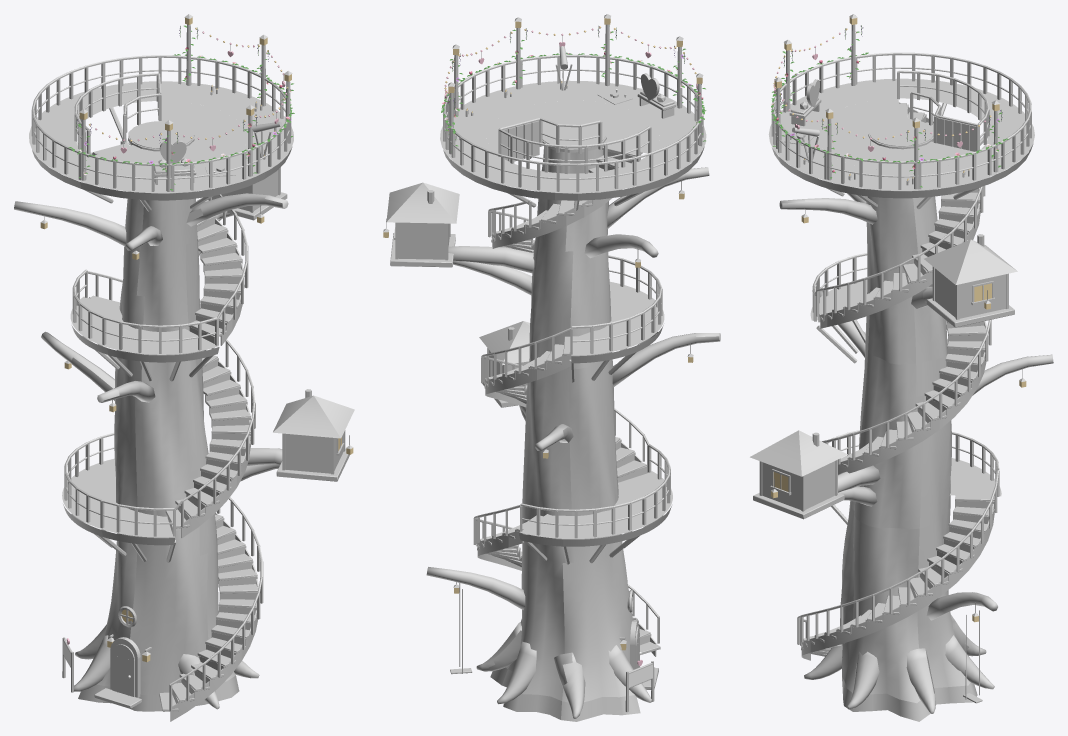
The model's file is zon_lookout.glb.
3 renders of one model, left to right at view 1: azimuth 30°, elevation 25°; view 2: azimuth 150°, elevation 25°; view 3: azimuth 270°, elevation 25°, orthographic.
Visible parts, largest first — view 1: SM_zon_lookout_kit_lookout_x0_zm1_LOD0, SM_zon_lookout_glow_vc_x0_zm1_LOD0, SM_zon_lookout_vc_palette_x0_zm1_LOD0; view 2: SM_zon_lookout_kit_lookout_x0_zm1_LOD0, SM_zon_lookout_vc_palette_x0_zm1_LOD0, SM_zon_lookout_glow_vc_x0_zm1_LOD0; view 3: SM_zon_lookout_kit_lookout_x0_zm1_LOD0, SM_zon_lookout_glow_vc_x0_zm1_LOD0, SM_zon_lookout_vc_palette_x0_zm1_LOD0.
Boxes of the visible parts, x1,y1,x2,y2 form: SM_zon_lookout_kit_lookout_x0_zm1_LOD0: (14, 14, 354, 721); SM_zon_lookout_glow_vc_x0_zm1_LOD0: (40, 17, 353, 662); SM_zon_lookout_vc_palette_x0_zm1_LOD0: (68, 25, 294, 190); SM_zon_lookout_kit_lookout_x0_zm1_LOD0: (383, 14, 720, 721); SM_zon_lookout_vc_palette_x0_zm1_LOD0: (441, 26, 706, 151); SM_zon_lookout_glow_vc_x0_zm1_LOD0: (383, 18, 702, 666); SM_zon_lookout_kit_lookout_x0_zm1_LOD0: (750, 14, 1053, 721); SM_zon_lookout_glow_vc_x0_zm1_LOD0: (771, 17, 1026, 622); SM_zon_lookout_vc_palette_x0_zm1_LOD0: (770, 25, 1008, 187).
Bounding box in the file's own units: 11.13 × 24.23 × 10.74.
